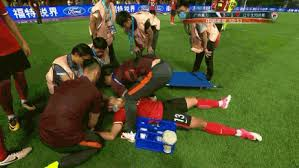10+: (1, 1, 236, 166)
down: (100, 92, 264, 145)
